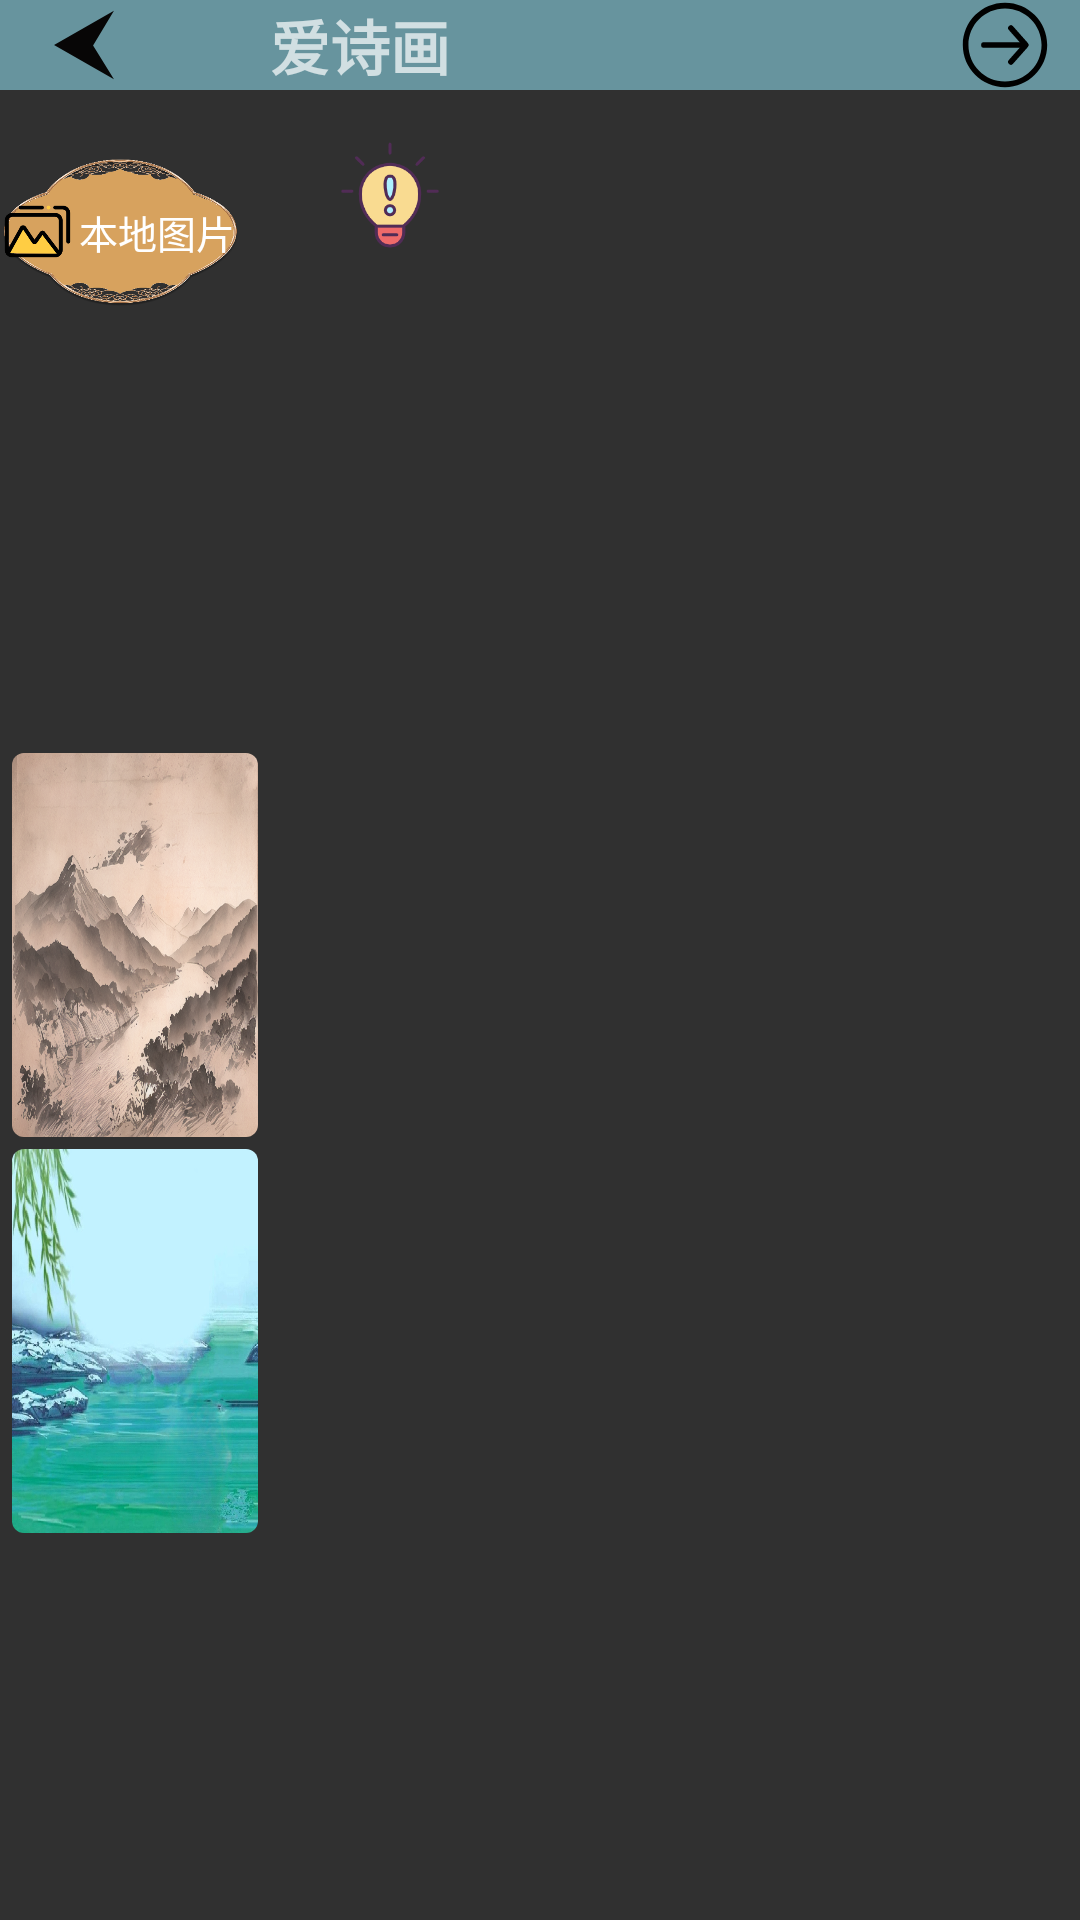

Named icons in this screenshot (1080w x 1920h) and their centers, (x,y):
tip: (390,195)
